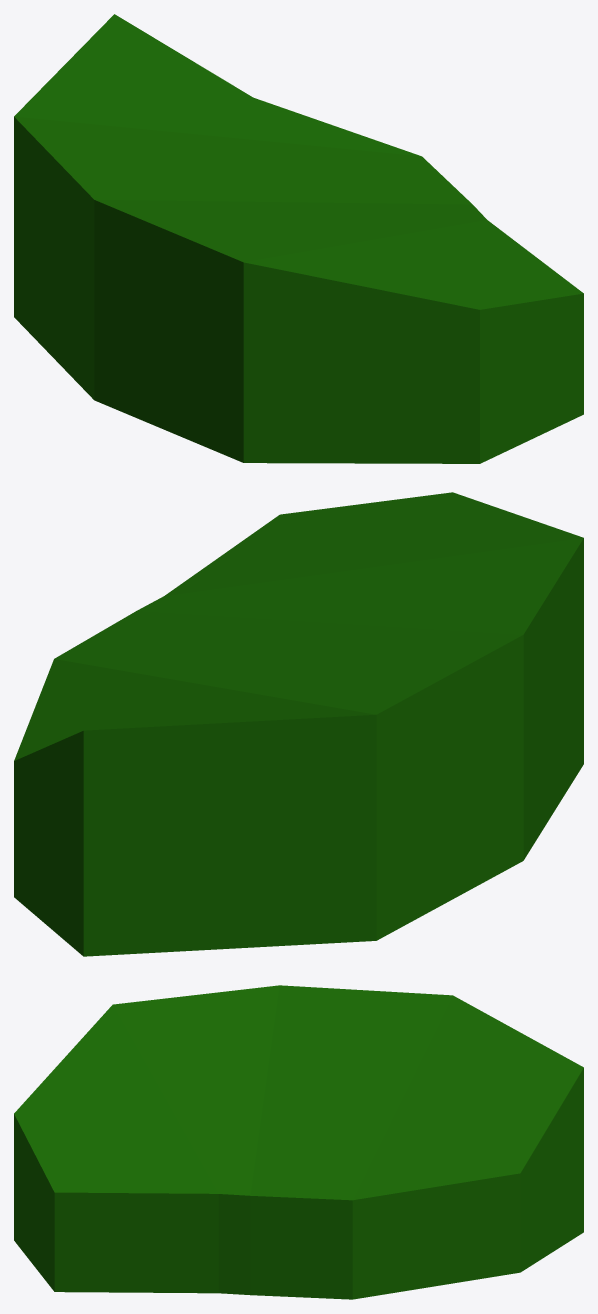
File: CapsicumFlakeGreenBaked.fbx
The picture shows the model from 3 angles, top to bottom: view 1: azimuth 30°, elevation 25°; view 2: azimuth 150°, elevation 25°; view 3: azimuth 270°, elevation 25°; orthographic projection. The views are drawn at different scales.
Visible parts, largest first — view 1: CapsicumFlakeGreenBaked; view 2: CapsicumFlakeGreenBaked; view 3: CapsicumFlakeGreenBaked.
Part boxes in pixels (x1,y1,x2,y2): CapsicumFlakeGreenBaked: (14, 14, 583, 463); CapsicumFlakeGreenBaked: (14, 492, 583, 956); CapsicumFlakeGreenBaked: (14, 985, 583, 1299).
Size of the model in its own units: 2.57 by 1.33 by 4.15.
